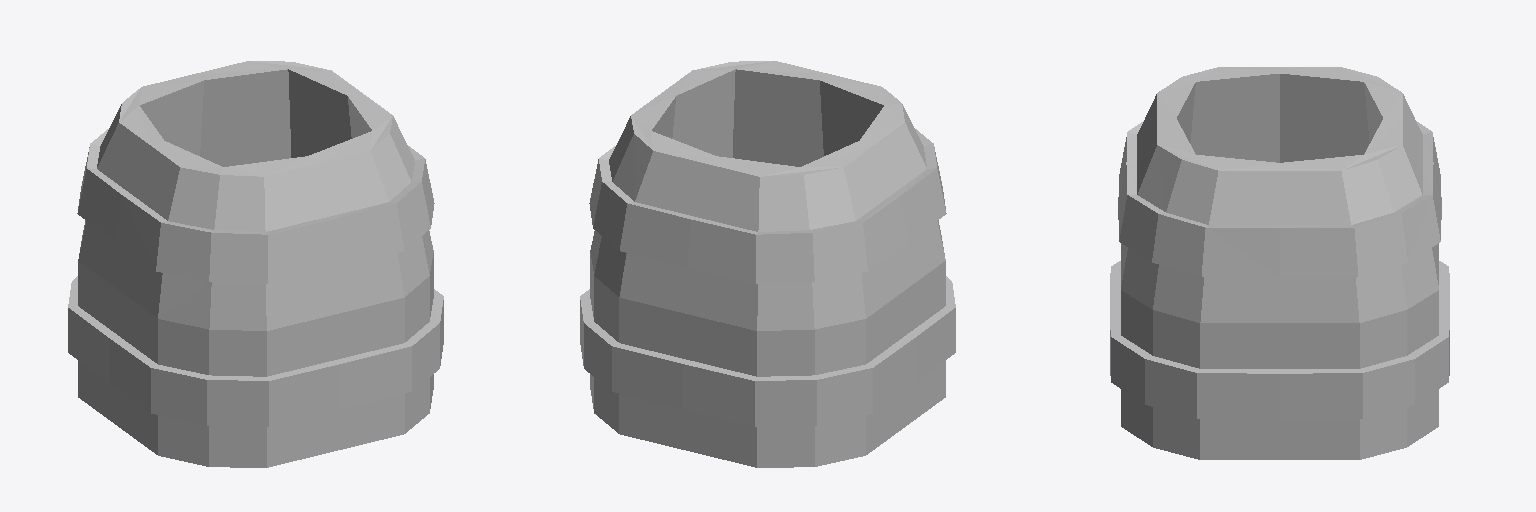
Rendered from Barrel 1.obj.
3 renders of one model, left to right at view 1: azimuth 30°, elevation 25°; view 2: azimuth 150°, elevation 25°; view 3: azimuth 270°, elevation 25°, orthographic.
Visible parts, largest first — view 1: Barrel; view 2: Barrel; view 3: Barrel.
Part boxes in pixels (left/top/right/bottom): Barrel: left=68, top=61, right=443, bottom=467; Barrel: left=580, top=61, right=955, bottom=467; Barrel: left=1110, top=67, right=1449, bottom=459.
Size of the model in its own units: 8.25 by 7.37 by 8.25.